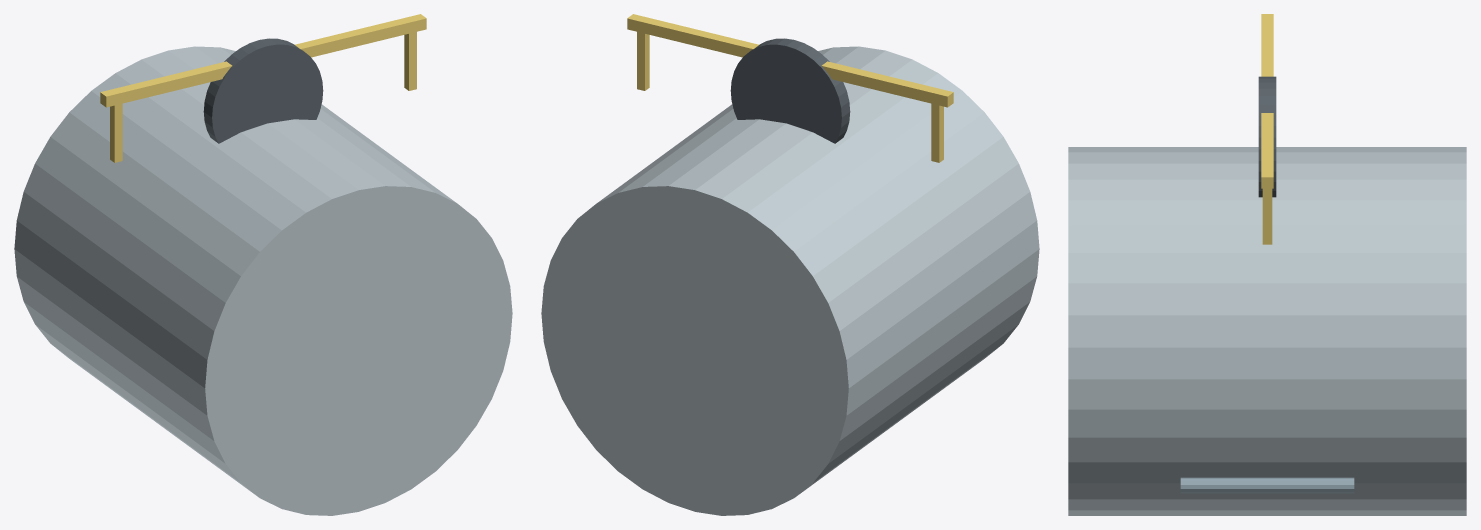
Rendered from tank_lod1.glb.
3 renders of one model, left to right at view 1: azimuth 30°, elevation 25°; view 2: azimuth 150°, elevation 25°; view 3: azimuth 270°, elevation 25°, orthographic. The views are drawn at different scales.
Parts seen in each view (by area): view 1: part_0, part_1, part_2, part_3, part_4; view 2: part_0, part_1, part_2, part_3, part_4; view 3: part_0, part_5, part_2, part_1, part_4.
Boxes of the visible parts, x1,y1,x2,y2 form: part_0: (14, 46, 512, 515); part_1: (203, 38, 323, 143); part_2: (100, 14, 426, 107); part_3: (110, 103, 122, 162); part_4: (404, 32, 416, 90); part_0: (541, 46, 1039, 515); part_1: (730, 38, 850, 143); part_2: (627, 14, 953, 107); part_3: (931, 103, 943, 162); part_4: (637, 32, 649, 90); part_0: (1068, 147, 1466, 515); part_5: (1180, 477, 1354, 493); part_2: (1261, 14, 1273, 188); part_1: (1258, 76, 1276, 197); part_4: (1262, 188, 1272, 244).
Bounding box in the file's own units: 4.97 × 5.83 × 5.05.
